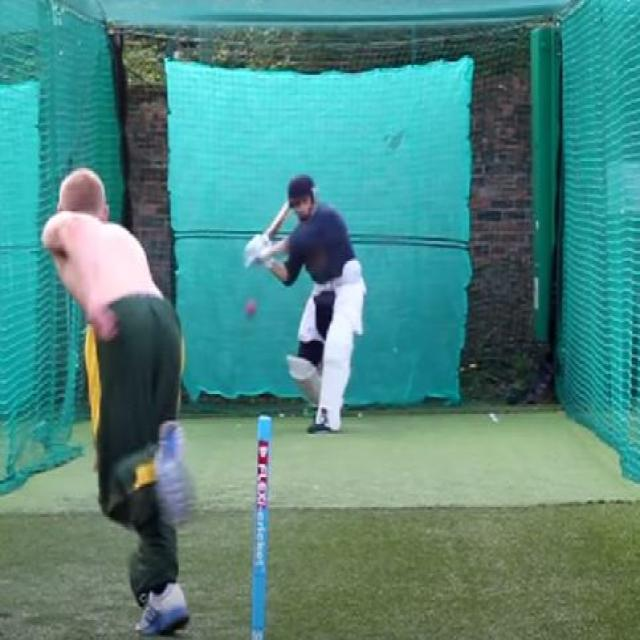ball: (239, 297, 264, 325)
